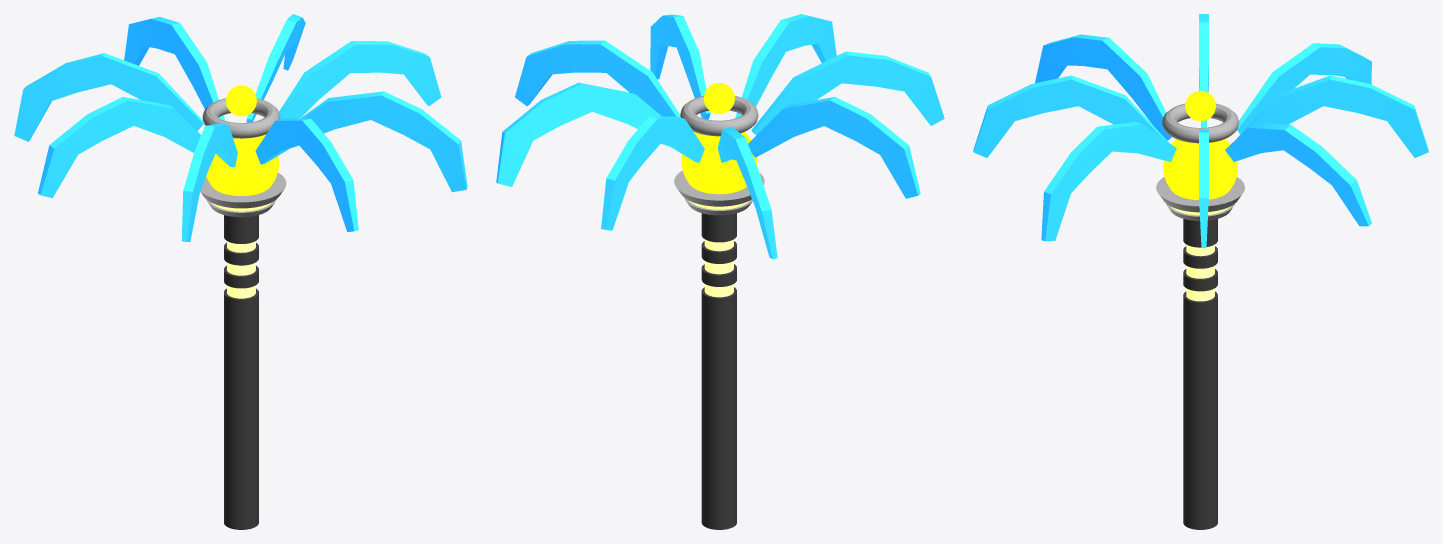
File: neon tree.fbx
3 renders of one model, left to right at view 1: azimuth 30°, elevation 25°; view 2: azimuth 150°, elevation 25°; view 3: azimuth 270°, elevation 25°, orthographic.
Visible parts, largest first — view 1: Cylinder, Cube.005, Cube.003, Cube.007, Cube.002, Cube.001, Cube, Cube.004, Cube.006; view 2: Cylinder, Cube.003, Cube.004, Cube.006, Cube.002, Cube, Cube.001, Cube.007, Cube.005; view 3: Cylinder, Cube.001, Cube, Cube.007, Cube.004, Cube.006, Cube.005, Cube.002, Cube.003.
Boxes of the visible parts, x1,y1,x2,y2 form: Cylinder: (200, 85, 286, 529); Cube.005: (14, 53, 203, 141); Cube.003: (38, 97, 201, 198); Cube.007: (300, 91, 467, 192); Cube.002: (279, 41, 441, 119); Cube.001: (255, 118, 358, 231); Cube: (124, 16, 225, 120); Cube.004: (181, 123, 237, 241); Cube.006: (246, 14, 305, 122); Cylinder: (674, 83, 764, 529); Cube.003: (748, 97, 920, 198); Cube.004: (751, 51, 944, 135); Cube.006: (496, 82, 661, 186); Cube.002: (515, 40, 680, 117); Cube: (601, 116, 704, 230); Cube.001: (735, 14, 836, 118); Cube.007: (650, 14, 710, 119); Cube.005: (717, 127, 777, 259); Cylinder: (1156, 90, 1244, 529); Cube.001: (973, 75, 1167, 157); Cube: (1237, 75, 1428, 157); Cube.007: (1041, 122, 1176, 241); Cube.004: (1035, 34, 1171, 140); Cube.006: (1225, 122, 1371, 226); Cube.005: (1237, 43, 1371, 134); Cube.002: (1199, 129, 1208, 247); Cube.003: (1199, 14, 1208, 127).
Bounding box in the file's own units: 1487 × 1596 × 1480.
